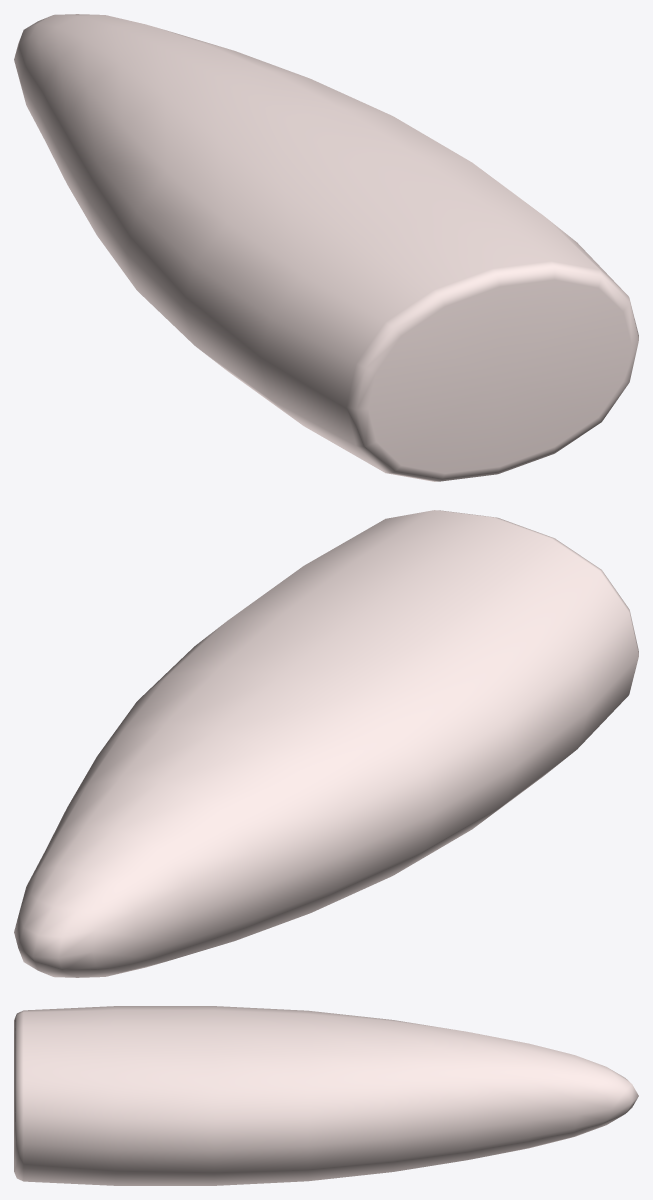
File: Squid_2_Half_1.fbx
3 renders of one model, top to bottom at view 1: azimuth 30°, elevation 25°; view 2: azimuth 150°, elevation 25°; view 3: azimuth 270°, elevation 25°, orthographic. The views are drawn at different scales.
Visible parts, largest first — view 1: Squid_2_Half_1; view 2: Squid_2_Half_1; view 3: Squid_2_Half_1.
Boxes of the visible parts, bbox=[...] form: Squid_2_Half_1: bbox=[14, 14, 638, 481]; Squid_2_Half_1: bbox=[14, 510, 638, 977]; Squid_2_Half_1: bbox=[14, 1006, 638, 1185].
Size of the model in its own units: 11.59 by 6.85 by 28.12.
